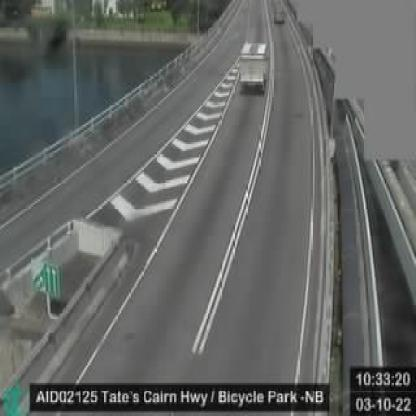Car: (273, 7, 285, 24)
Truck: (239, 42, 268, 90)
